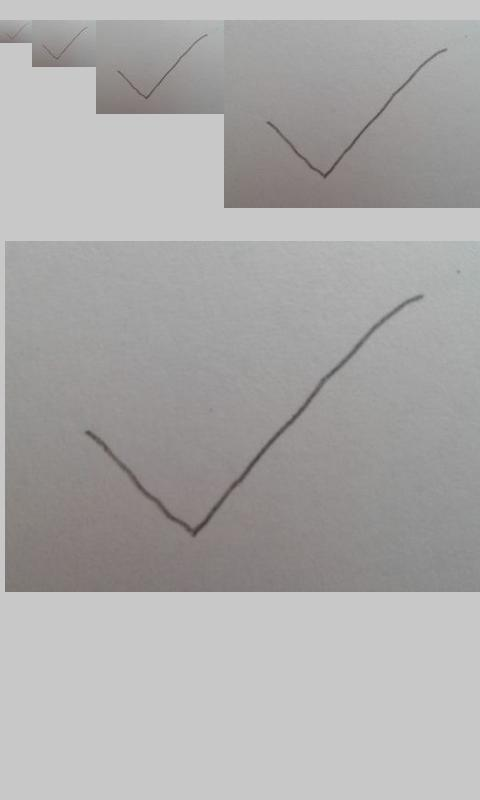check_box: (89, 295, 422, 536), (267, 48, 447, 179), (118, 34, 207, 100), (43, 27, 86, 60), (6, 24, 27, 40)
